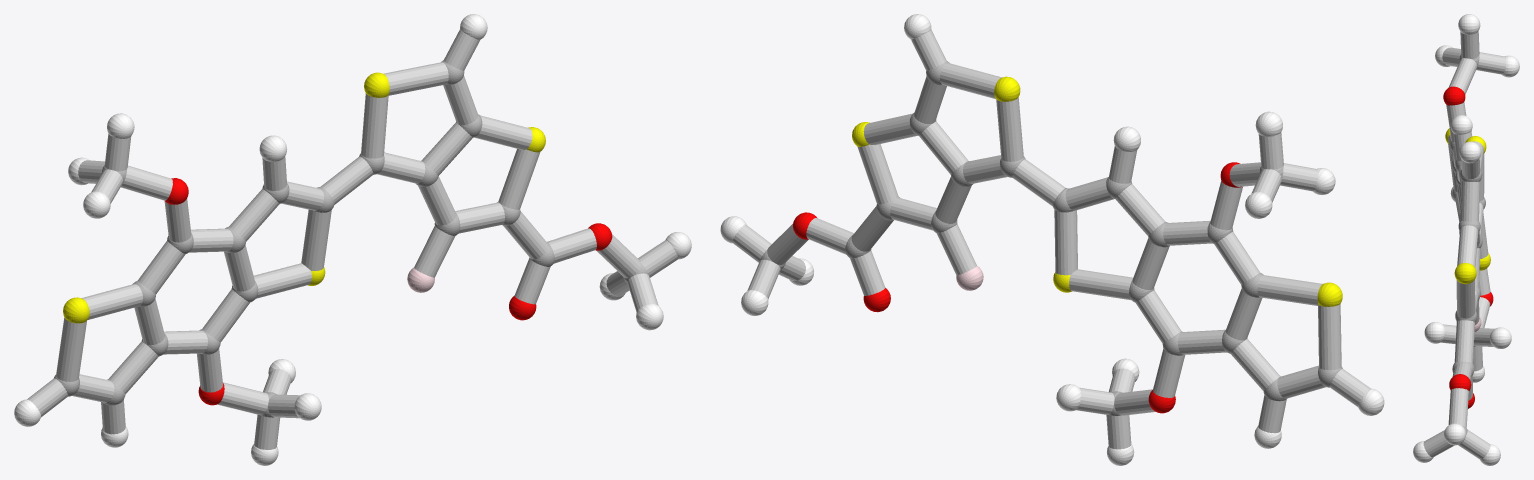
File: color.glb
3 views of the same model, side by side, from view 1: azimuth 30°, elevation 25°; view 2: azimuth 150°, elevation 25°; view 3: azimuth 270°, elevation 25° (orthographic). The views are drawn at different scales.
Parts seen in each view (by area): view 1: grp15205, grp8689, grp1, grp7241, grp13395; view 2: grp15205, grp8689, grp1, grp7241, grp13395; view 3: grp15205, grp8689, grp1, grp13395, grp7241.
Boxes of the visible parts, x1,y1,x2,y2 form: grp15205: [27, 29, 678, 449]; grp8689: [14, 14, 691, 465]; grp1: [54, 60, 648, 417]; grp7241: [63, 72, 545, 323]; grp13395: [165, 178, 612, 405]; grp15205: [732, 29, 1370, 449]; grp8689: [720, 14, 1384, 465]; grp1: [760, 61, 1342, 415]; grp7241: [852, 76, 1342, 306]; grp13395: [793, 162, 1241, 413]; grp15205: [1423, 31, 1506, 459]; grp8689: [1413, 14, 1519, 465]; grp1: [1450, 54, 1485, 434]; grp13395: [1443, 86, 1493, 408]; grp7241: [1445, 128, 1490, 284].
Bounding box in the file's own units: 16.77 × 9.59 × 2.9.
